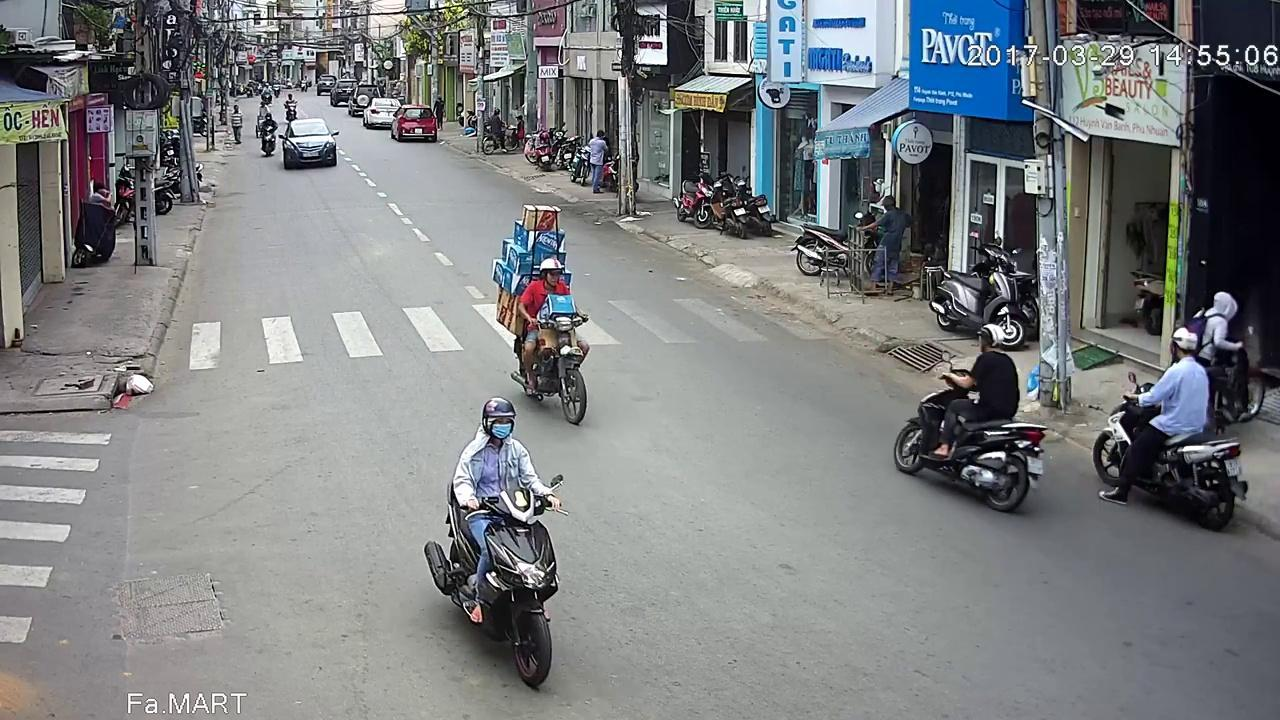xe hoi: (279, 119, 336, 171), (395, 104, 440, 143), (364, 97, 405, 129)
xe may: (422, 366, 562, 720), (1089, 321, 1247, 531), (888, 319, 1040, 510), (519, 258, 594, 421), (259, 116, 275, 160), (283, 94, 301, 122)
